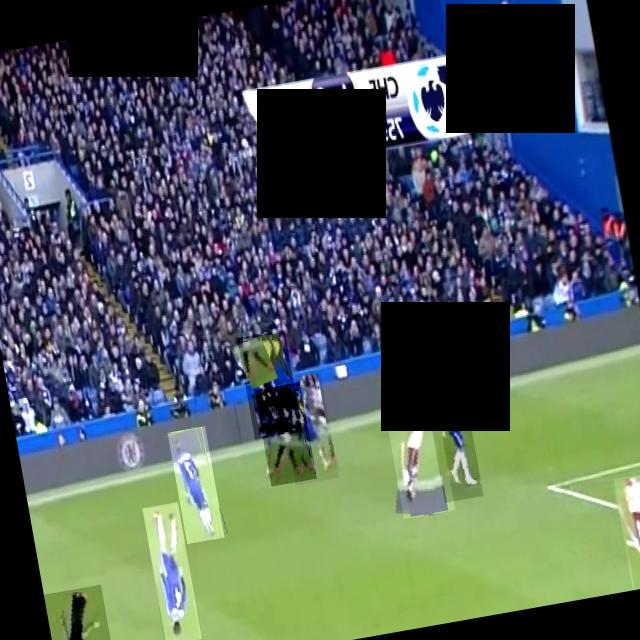referee: (237, 330, 302, 440), (43, 584, 117, 640)
soccer-player: (380, 372, 455, 518), (420, 358, 483, 502), (141, 501, 201, 640), (276, 372, 338, 485), (167, 426, 224, 544), (254, 382, 316, 486), (613, 470, 640, 590)
